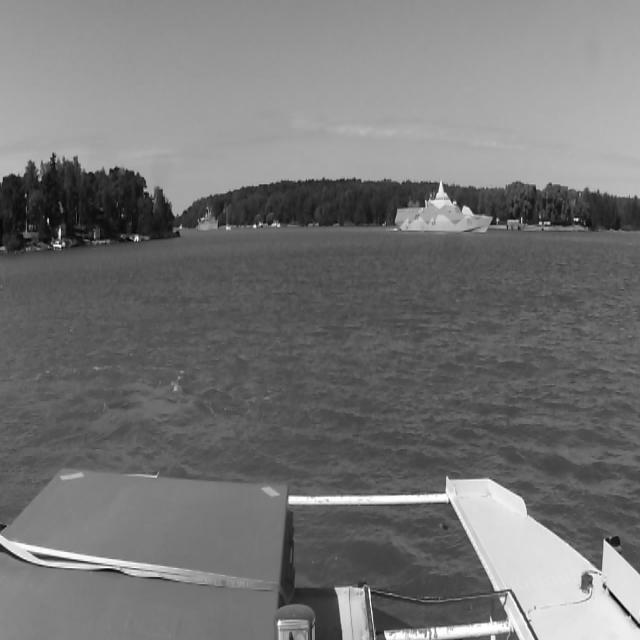ship: (398, 176, 493, 234), (196, 206, 220, 230)
